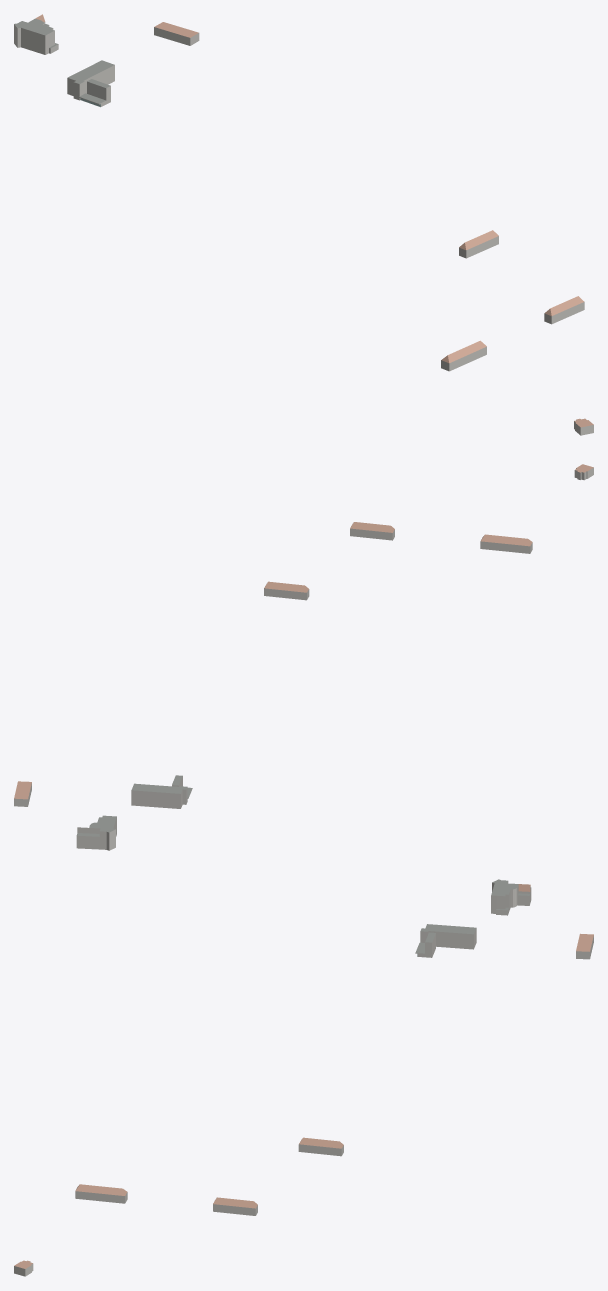
The model's file is gridID_44_high.dae.
3 views of the same model, one above another, from view 1: azimuth 30°, elevation 25°; view 2: azimuth 150°, elevation 25°; view 3: azimuth 330°, elevation 25° (orthographic). The views are drawn at different scales.
Visible parts, largest first — view 1: model_gridID_44_w396205531, model_gridID_44_w396205530_004, model_gridID_44_w396205530_002, model_gridID_44_w396205530, model_gridID_44_w396205530_001, model_gridID_44_w396205530_003; view 2: model_gridID_44_w396205531, model_gridID_44_w396205530_004, model_gridID_44_w396205530_002, model_gridID_44_w396205530_003, model_gridID_44_w396205530_001; view 3: model_gridID_44_w396205531, model_gridID_44_w396205530_004, model_gridID_44_w396205530_002, model_gridID_44_w396205530_003, model_gridID_44_w396205530_001.
Boxes of the visible parts, x1,y1,x2,y2 form: model_gridID_44_w396205531: (67, 60, 114, 107); model_gridID_44_w396205530_004: (14, 14, 58, 54); model_gridID_44_w396205530_002: (441, 340, 486, 371); model_gridID_44_w396205530: (154, 22, 199, 45); model_gridID_44_w396205530_001: (544, 296, 584, 324); model_gridID_44_w396205530_003: (459, 230, 498, 258); model_gridID_44_w396205531: (131, 775, 192, 808); model_gridID_44_w396205530_004: (76, 815, 116, 850); model_gridID_44_w396205530_002: (480, 534, 532, 553); model_gridID_44_w396205530_003: (264, 581, 309, 600); model_gridID_44_w396205530_001: (350, 522, 394, 540); model_gridID_44_w396205531: (415, 924, 476, 957); model_gridID_44_w396205530_004: (491, 879, 531, 915); model_gridID_44_w396205530_002: (75, 1184, 127, 1203); model_gridID_44_w396205530_003: (298, 1137, 343, 1156); model_gridID_44_w396205530_001: (213, 1197, 257, 1215).
Bounding box in the file's own units: 164 × 916 × 18.
